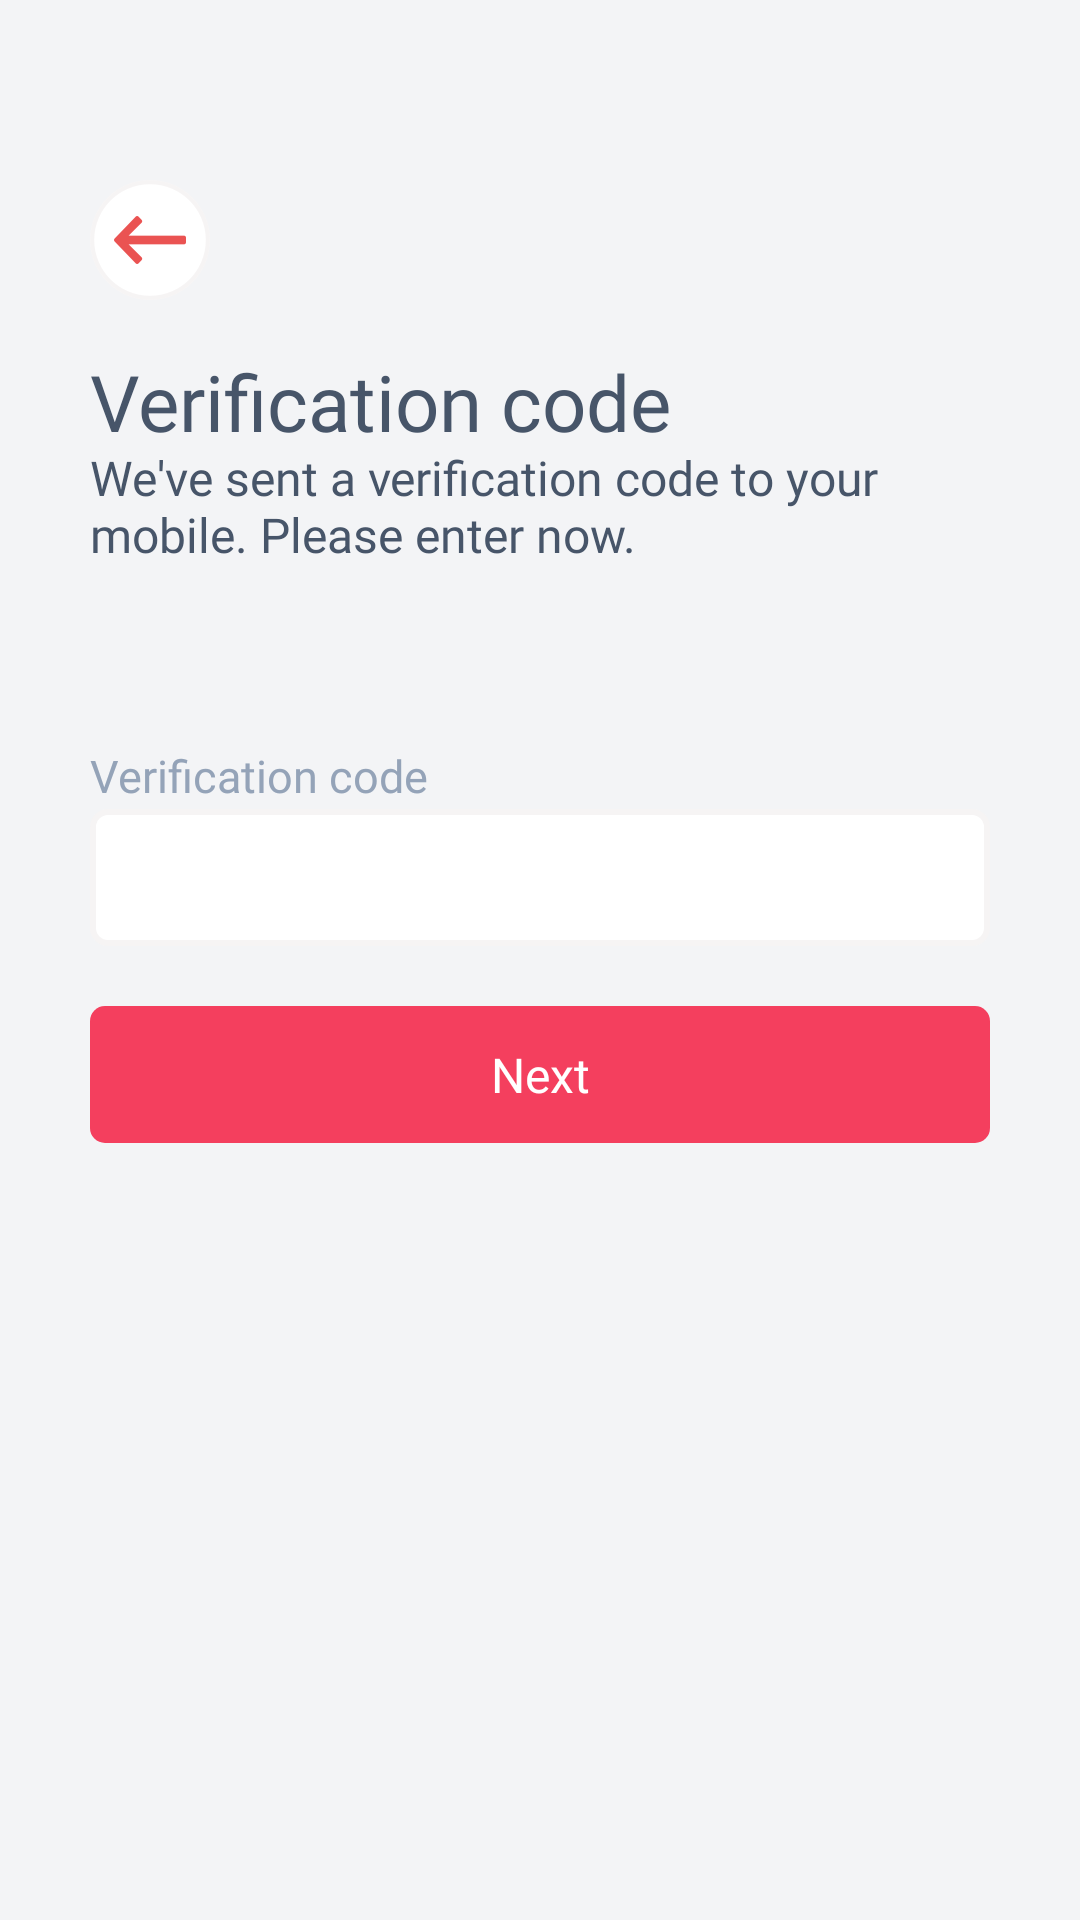

Icon click points for this 1080px x 1920px phone screenshot, format (x,y):
back: (150,240)
